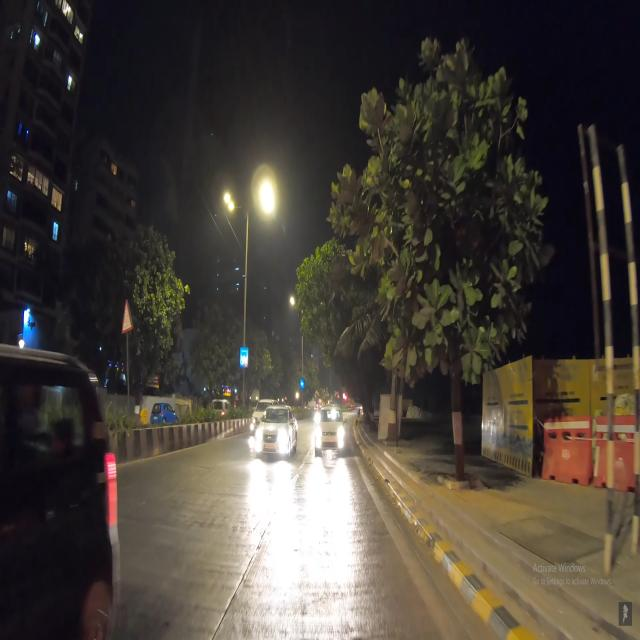headlights: (251, 424, 294, 458), (309, 422, 352, 454)
